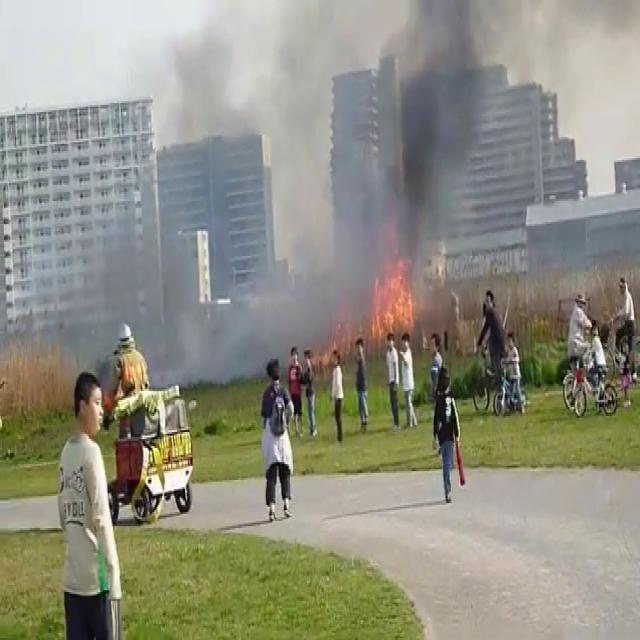Fire: (371, 257, 422, 344)
Smoke: (116, 0, 474, 352)
